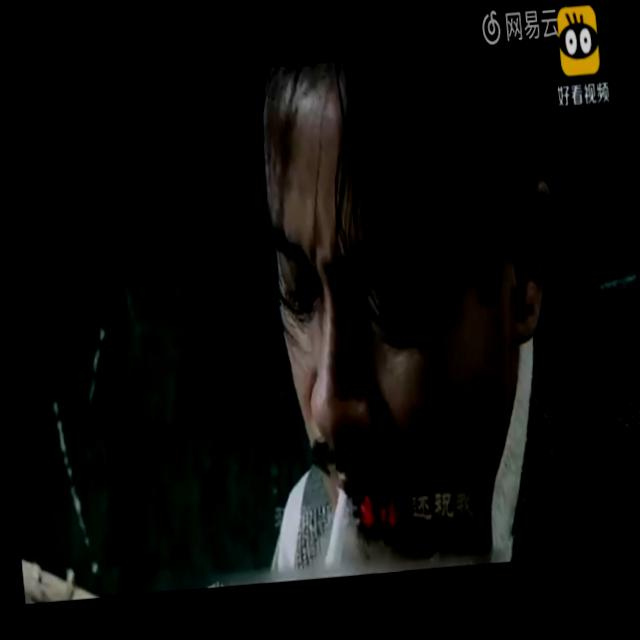smoke: (313, 483, 358, 575)
